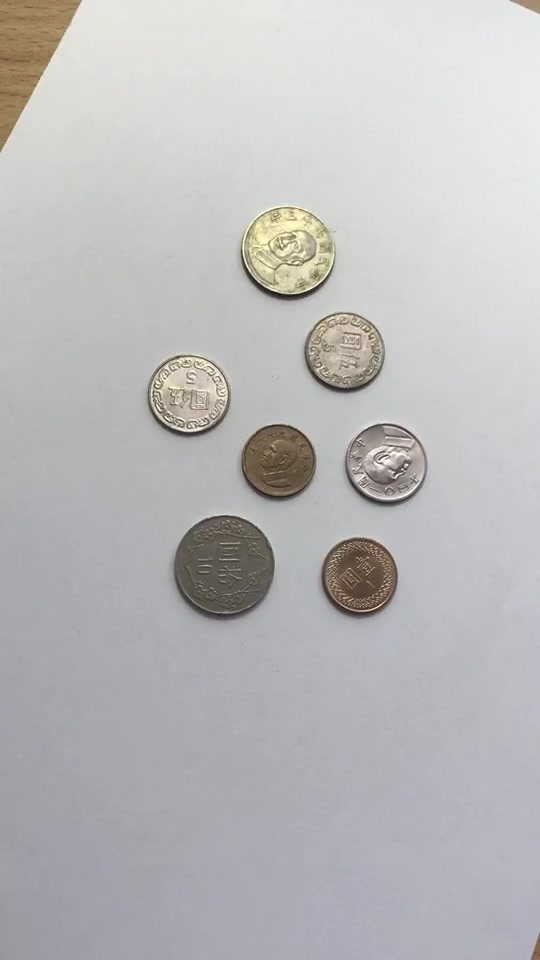1 dallar: (235, 419, 323, 506), (316, 530, 404, 617)
10 dallar: (157, 506, 291, 624), (222, 181, 356, 299)
5 dallar: (143, 350, 238, 446), (288, 308, 383, 404), (340, 416, 435, 512)
